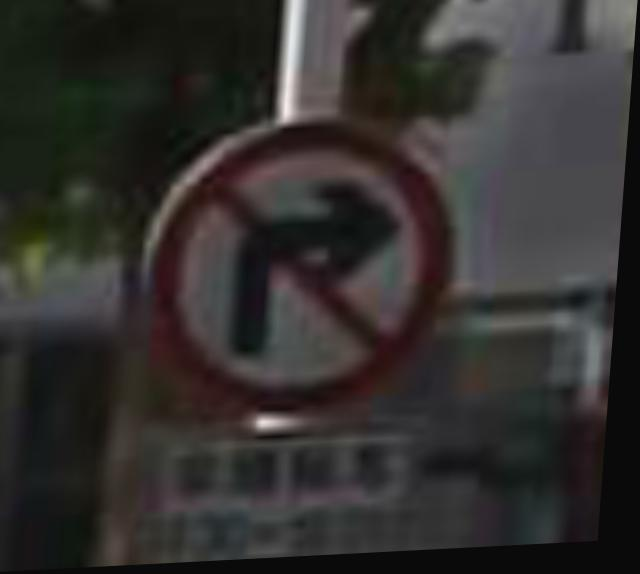not_turn_right: (136, 107, 475, 432)
